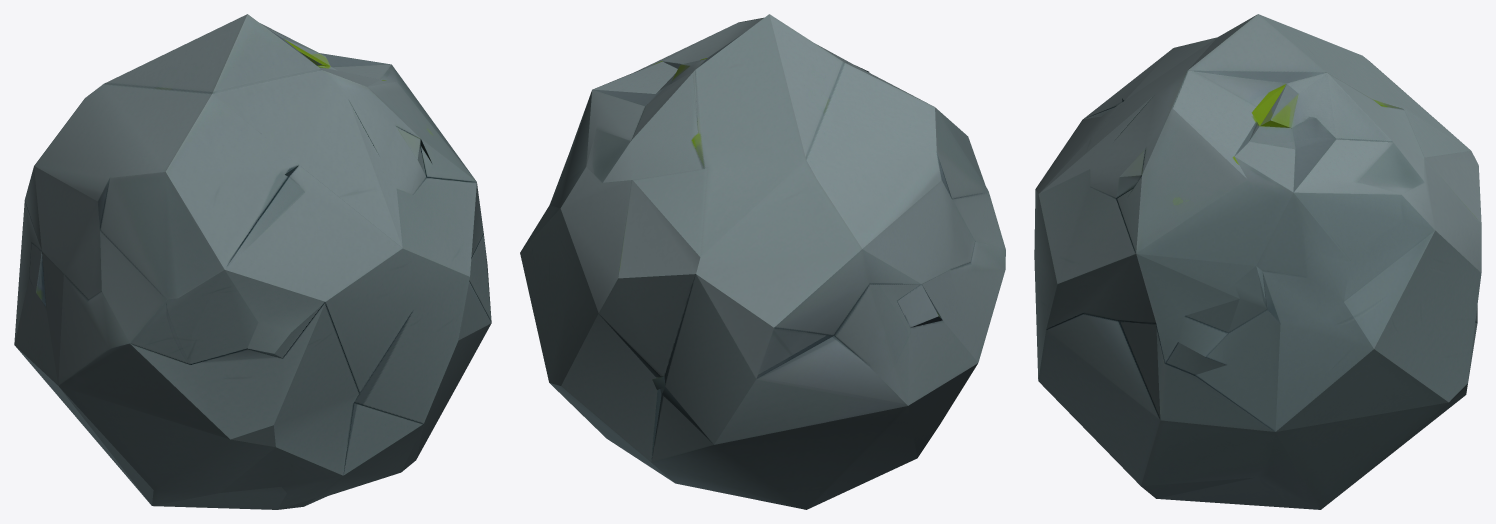
The model's file is pedra.glb.
3 renders of one model, left to right at view 1: azimuth 30°, elevation 25°; view 2: azimuth 150°, elevation 25°; view 3: azimuth 270°, elevation 25°, orthographic. The views are drawn at different scales.
Bounding box in the file's own units: 1.85 × 1.9 × 1.77.
1 material, 1 textured.
